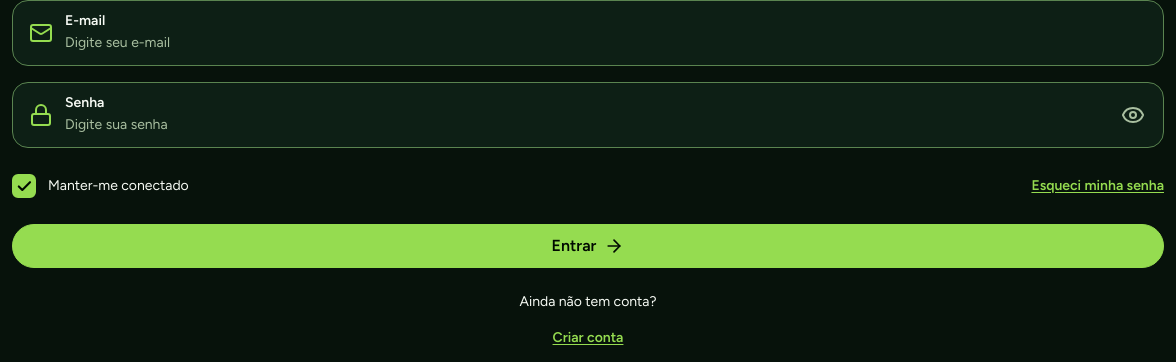
EntrarForm › o olho mostra e esconde a senha
The width and height of the screenshot is (1176, 362).
Click the button named "Mostrar senha" at (1133, 115), box [1111,93,1155,137]
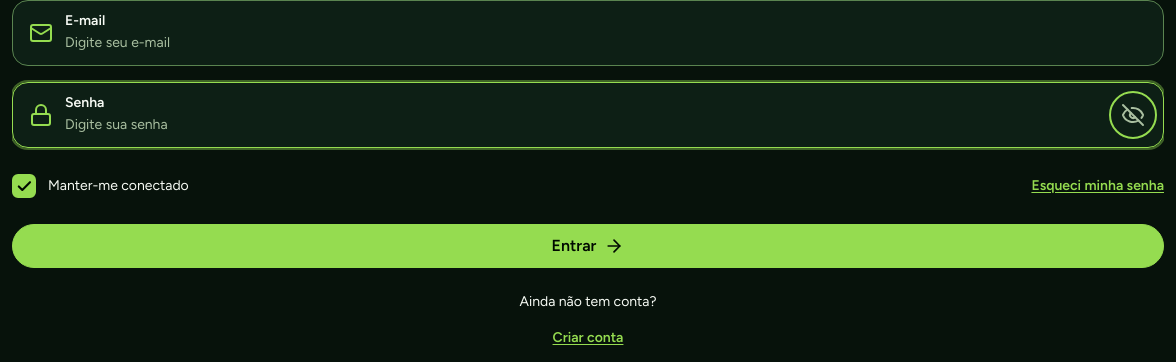
Expected: the button named "Esconder senha" is shown, [1111,93,1155,137]
